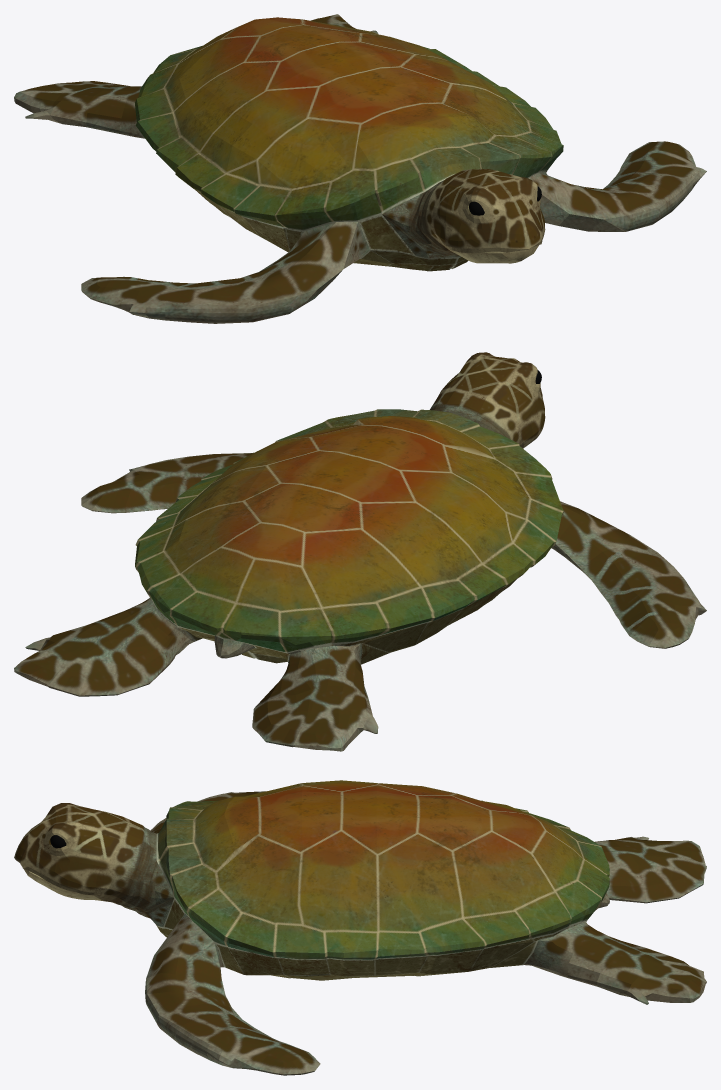
The picture shows the model from 3 angles, top to bottom: view 1: azimuth 30°, elevation 25°; view 2: azimuth 150°, elevation 25°; view 3: azimuth 270°, elevation 25°; orthographic projection. The views are drawn at different scales.
Visible parts, largest first — view 1: Geode; view 2: Geode; view 3: Geode.
Part boxes in pixels (box(x1,y1,x2,y2)): Geode: box(14, 14, 706, 323); Geode: box(14, 352, 706, 751); Geode: box(14, 780, 706, 1075).
Size of the model in its own units: 219 by 48.13 by 226.
Materials: 4 (3 with a texture image).
